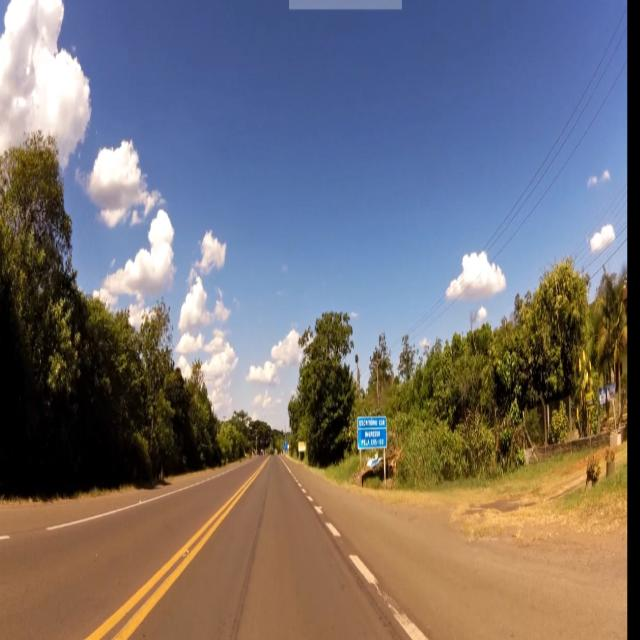LOC-6: (356, 417, 387, 450)
